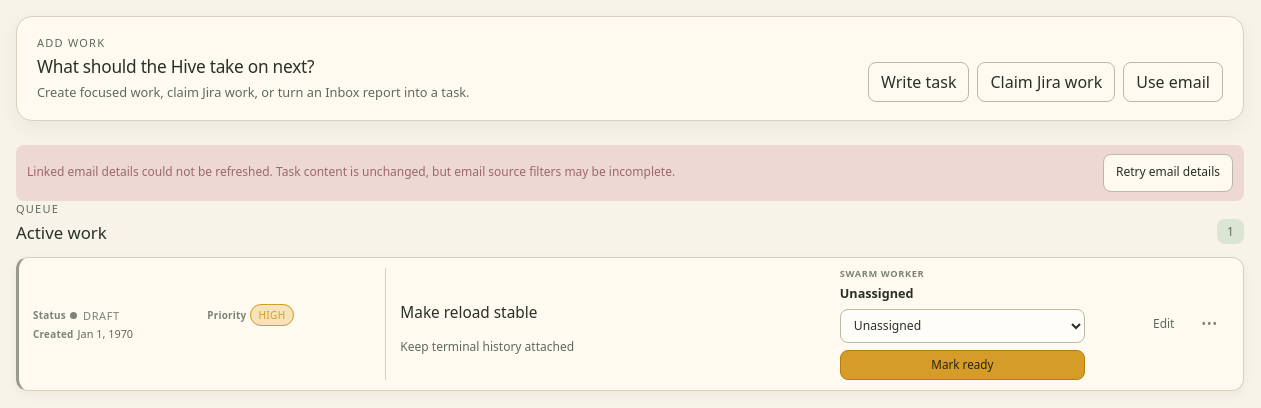
Test: warns when email source metadata cannot support reliable board filtering
This screenshot has width=1261, height=408.
Expected: the text "email source filters may be incomplete" is shown, top-left (27, 163), bottom-right (675, 180)
Click the button "Retry email details". click: (1168, 172)
box: top-left (1103, 154), bottom-right (1233, 192)
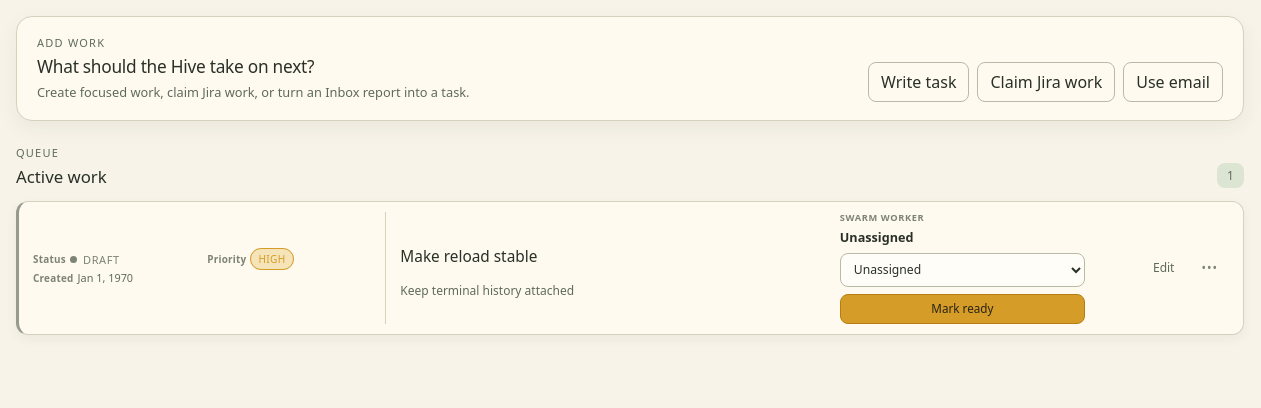
Now the text "email source filters may be incomplete" is gone
